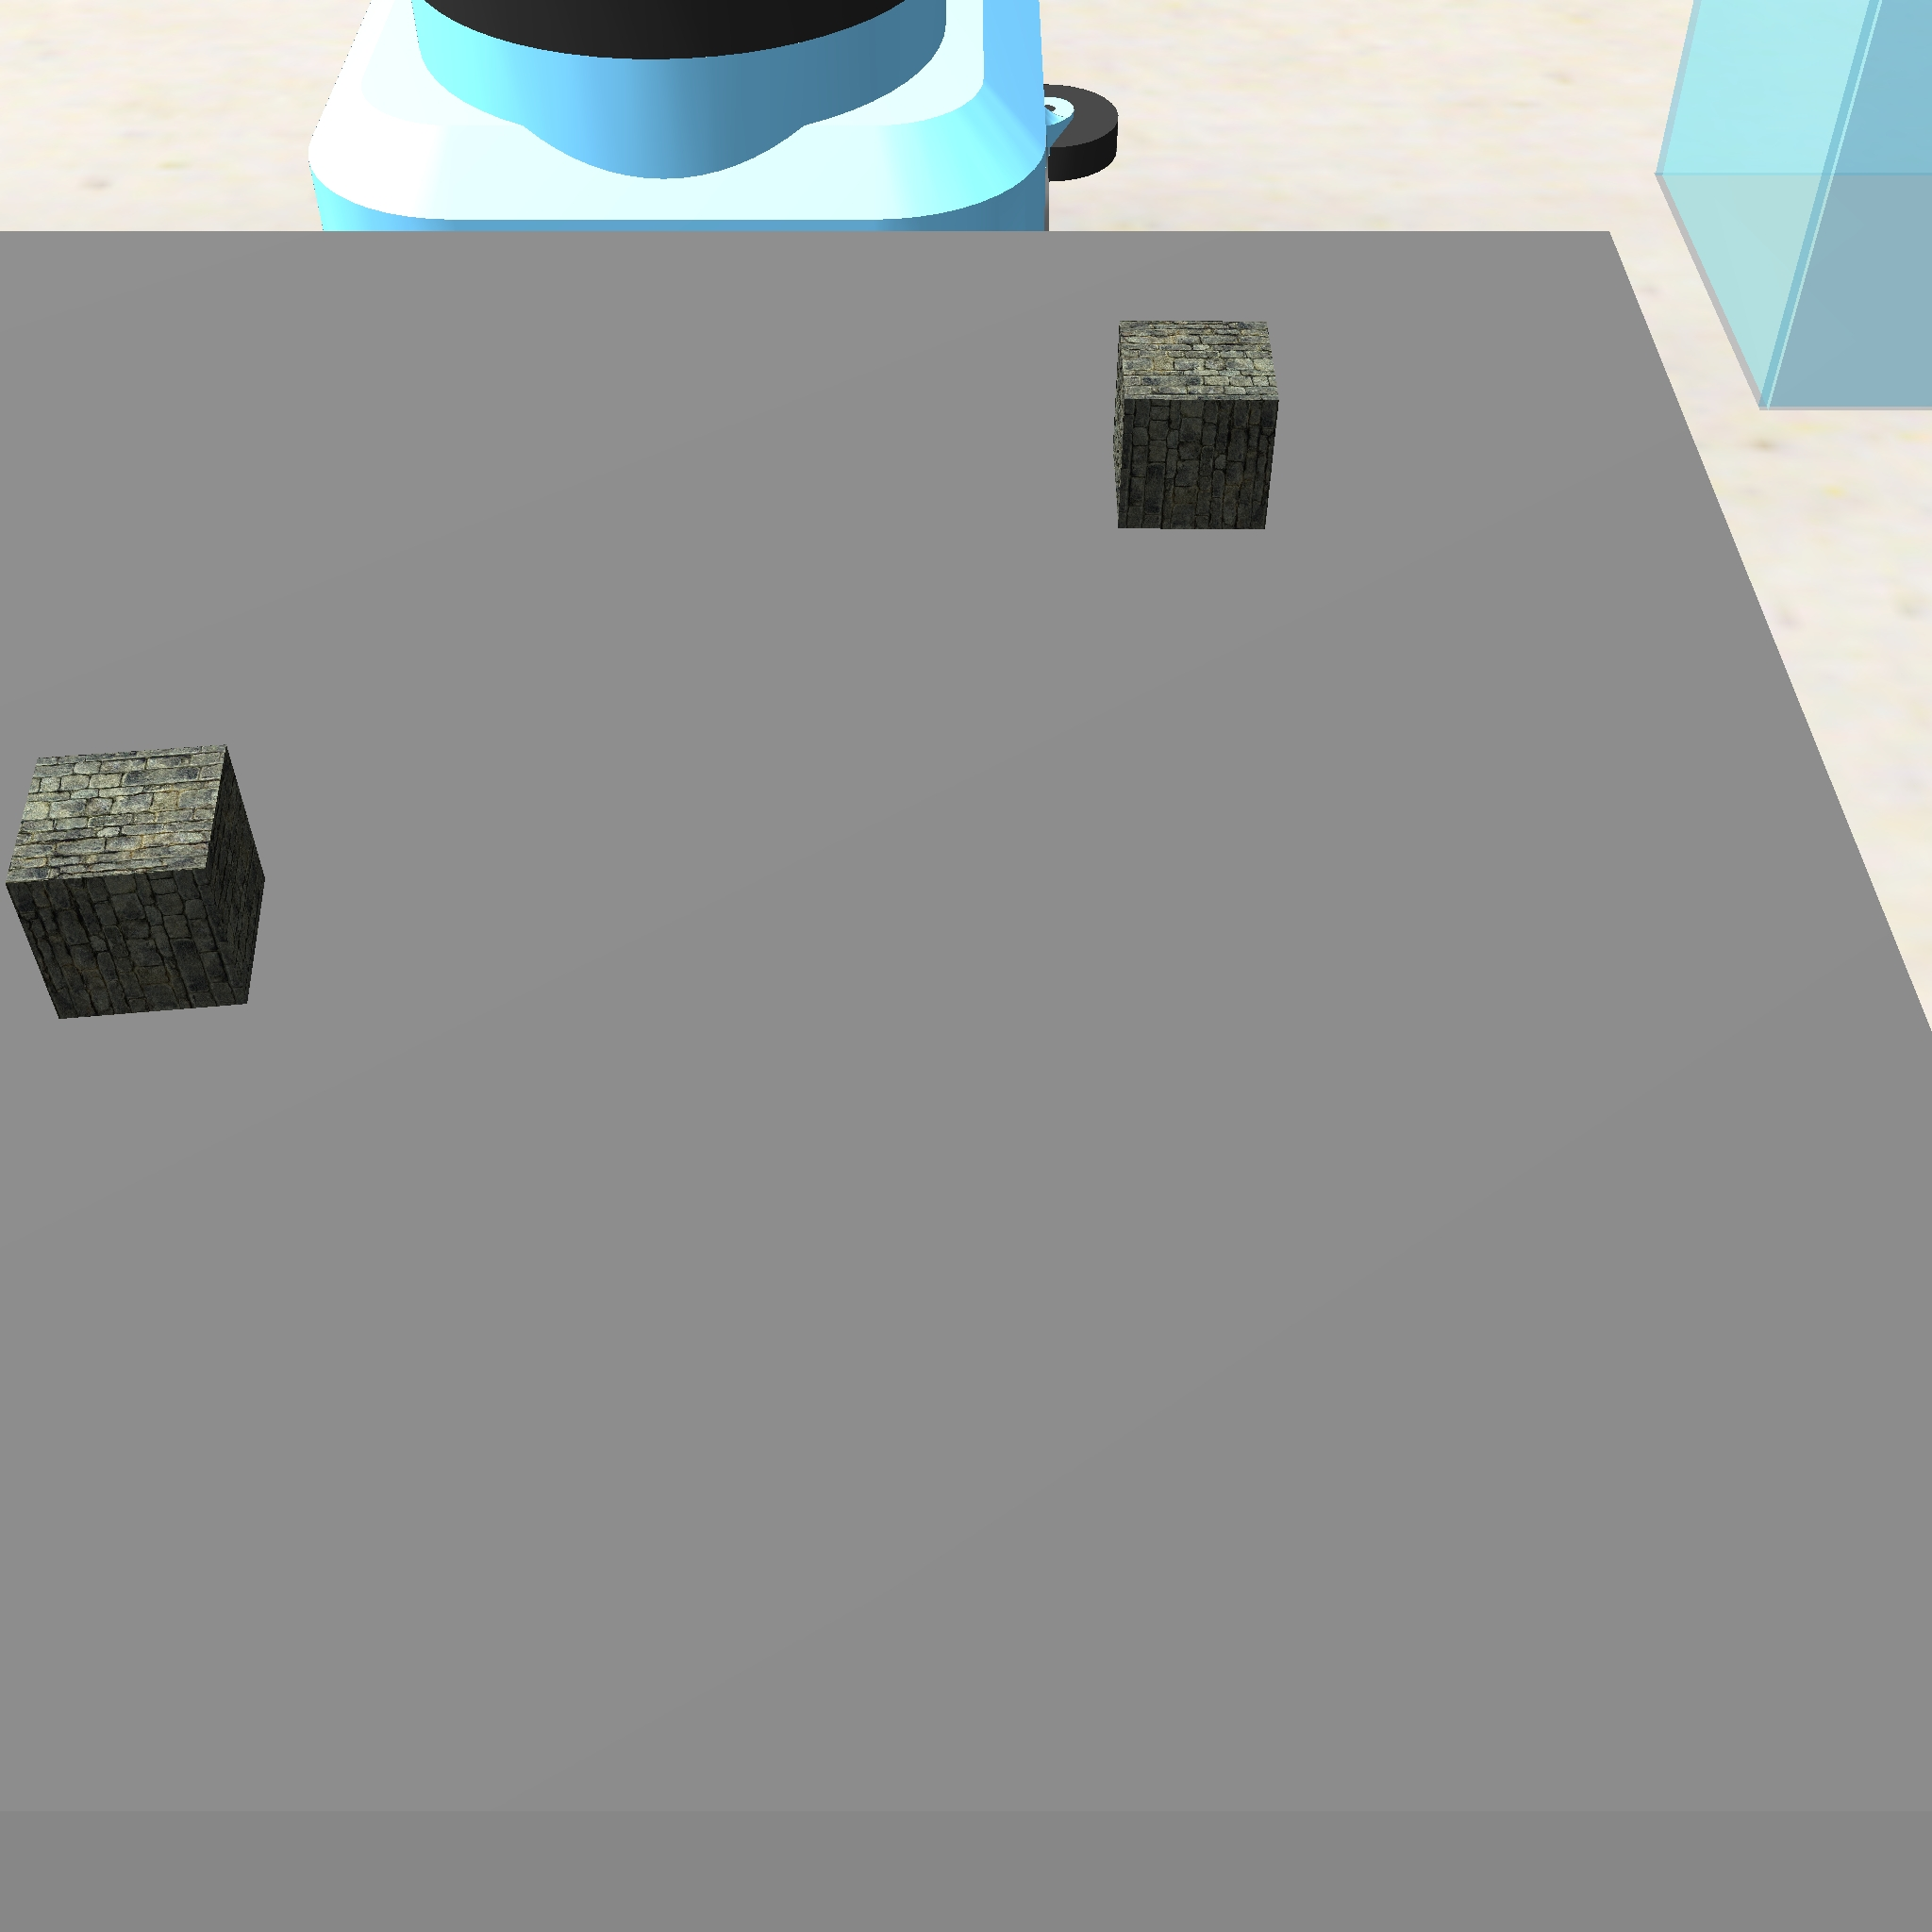cube: (0, 736, 272, 1026), (1104, 308, 1286, 538)
